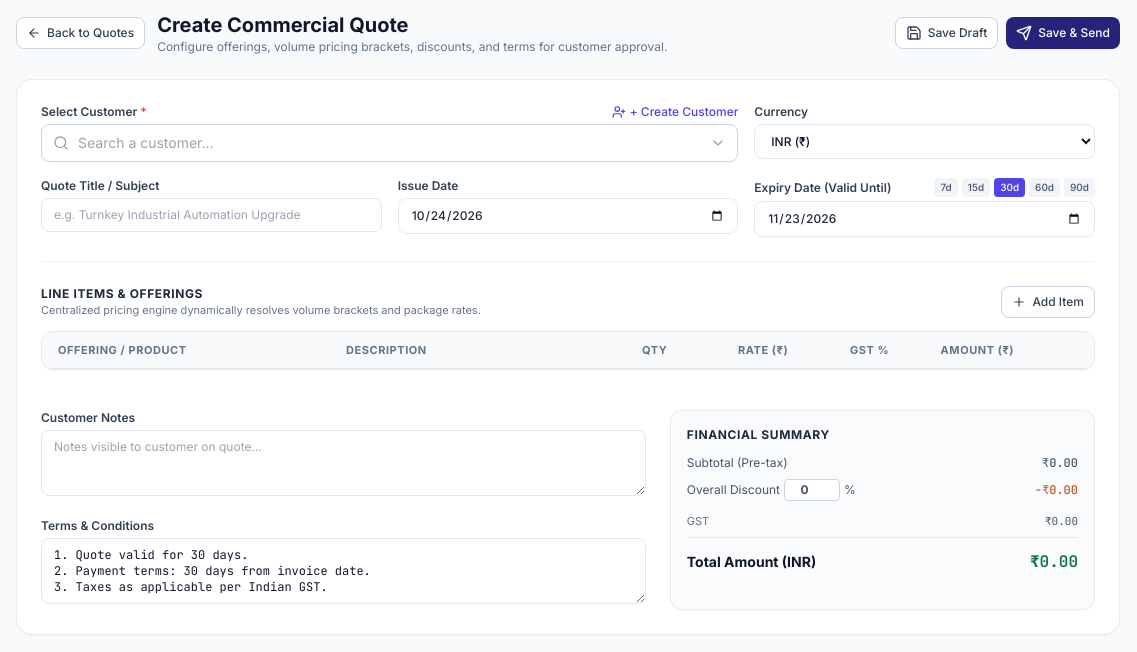
<QuoteFormPage /> Quote Validity and Terms & Conditions › updates terms and expiry date dynamically when selecting 7-day validity
expect the heading "Line Items & Offerings" is shown: met, box x1=41 y1=286 x2=203 y2=301
Click the button "7d" at (946,188), box x1=934 y1=178 x2=958 y2=197
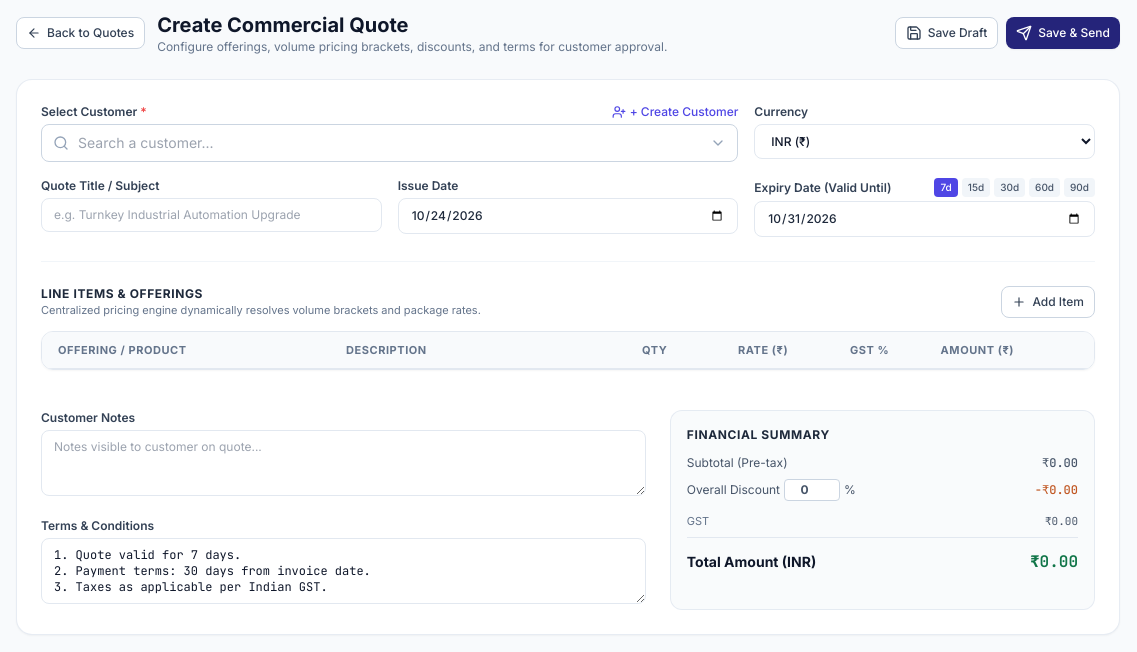
expect the date field below "Expiry Date (Valid Until)" holds "2026-10-31": met, box x1=754 y1=201 x2=1095 y2=237
